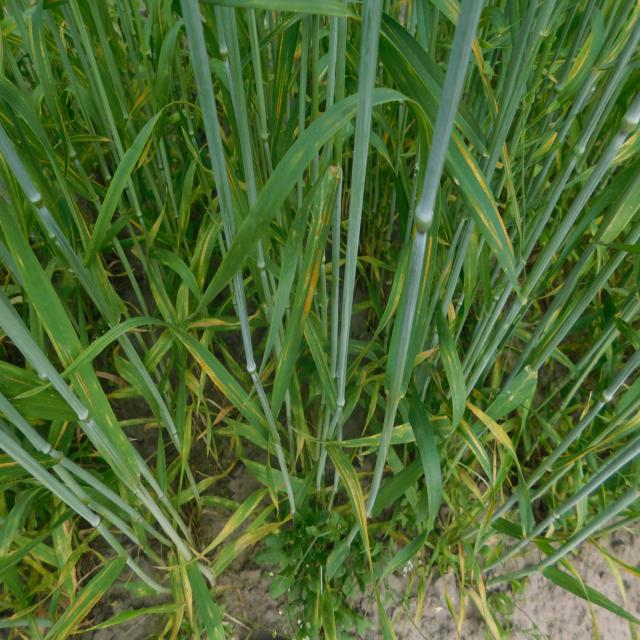wheat-yellowrust: (12, 254, 128, 461), (274, 170, 341, 412), (446, 125, 518, 293), (177, 332, 266, 431), (43, 553, 130, 640), (327, 448, 370, 563), (202, 489, 268, 557)
